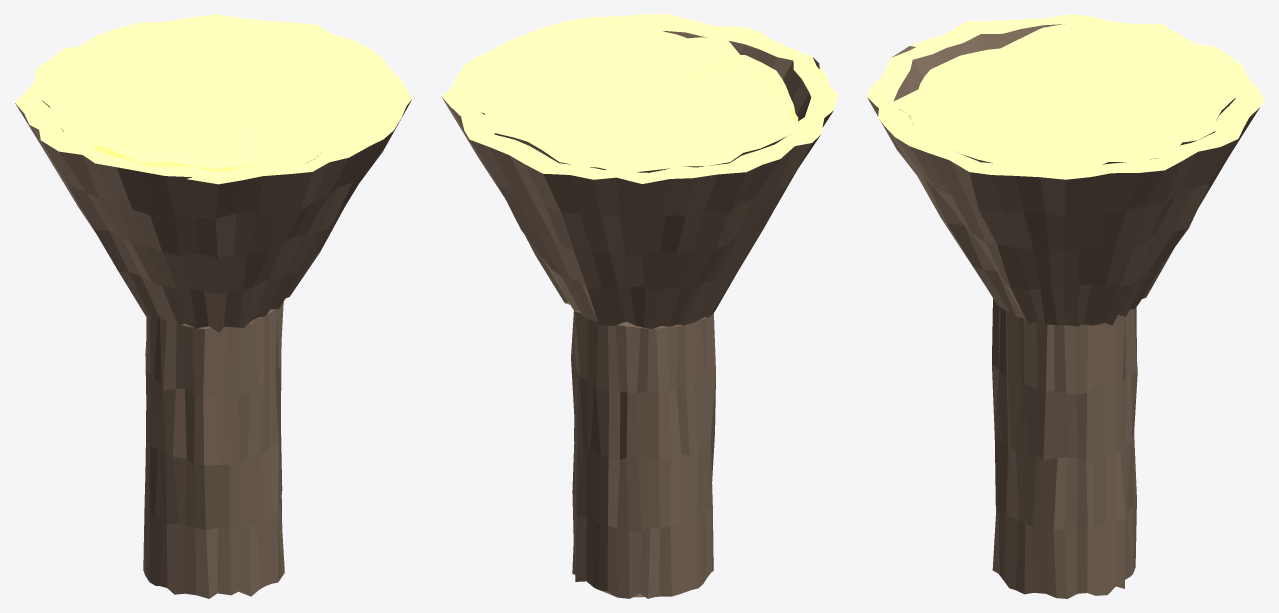
The model's file is SM_Brazier.fbx.
3 renders of one model, left to right at view 1: azimuth 30°, elevation 25°; view 2: azimuth 150°, elevation 25°; view 3: azimuth 270°, elevation 25°, orthographic.
Visible parts, largest first — view 1: SM_Brazier; view 2: SM_Brazier; view 3: SM_Brazier.
Boxes of the visible parts, left/top/right/bottom form: SM_Brazier: left=14, top=14, right=412, bottom=598; SM_Brazier: left=441, top=14, right=838, bottom=598; SM_Brazier: left=867, top=14, right=1264, bottom=598.
Bounding box in the file's own units: 0.719 × 0.9635 × 0.7263.
